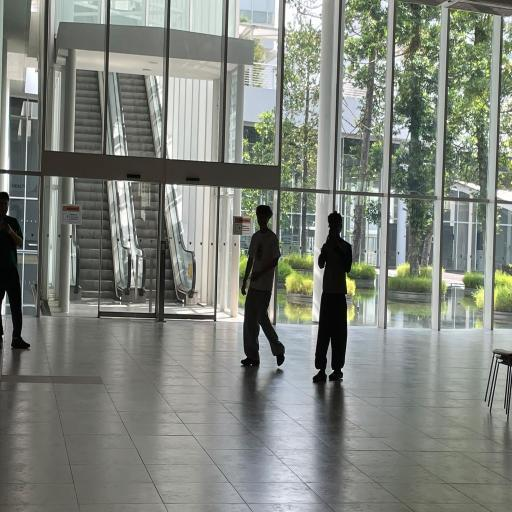person_left: (242, 200, 287, 374), (315, 205, 354, 394)
